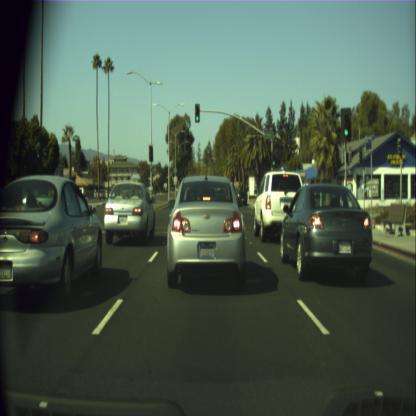Green: (340, 108, 351, 140), (194, 102, 199, 121), (272, 152, 275, 166)
off: (148, 144, 153, 161)
